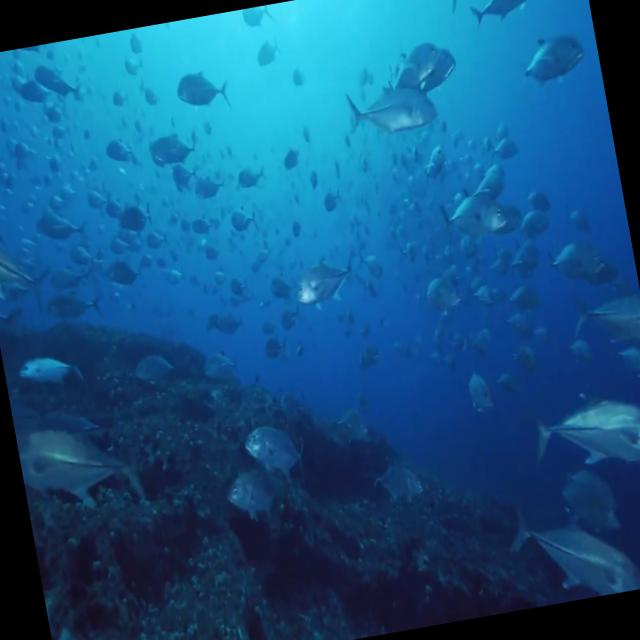fish: (16, 414, 150, 530), (510, 491, 640, 608), (527, 385, 640, 478), (342, 70, 440, 139), (290, 246, 360, 312), (244, 420, 308, 490), (174, 65, 234, 118), (461, 0, 554, 32)
